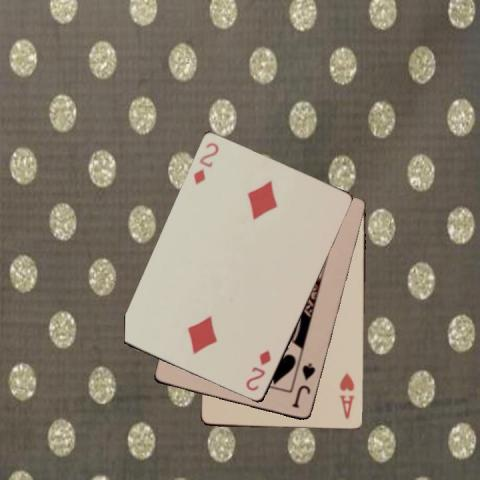2d: (190, 139, 220, 187), (243, 347, 272, 394)
Ah: (337, 370, 357, 420)
Js: (289, 360, 317, 410)
